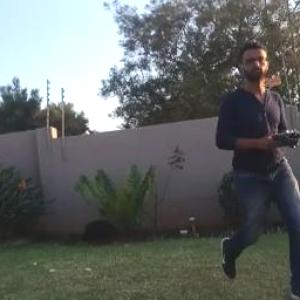follow: (212, 29, 299, 299)
